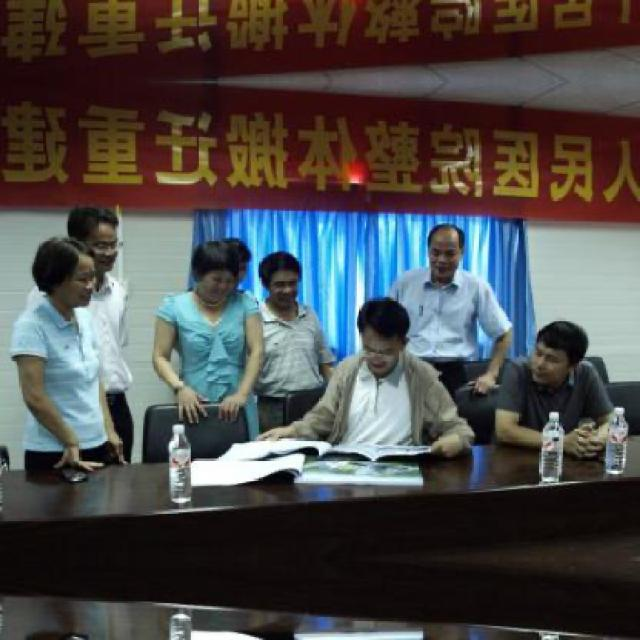sin casco: (502, 304, 608, 386), (388, 228, 480, 308), (36, 232, 102, 328), (334, 297, 408, 380), (66, 204, 138, 280), (182, 241, 251, 302), (250, 254, 320, 298)
